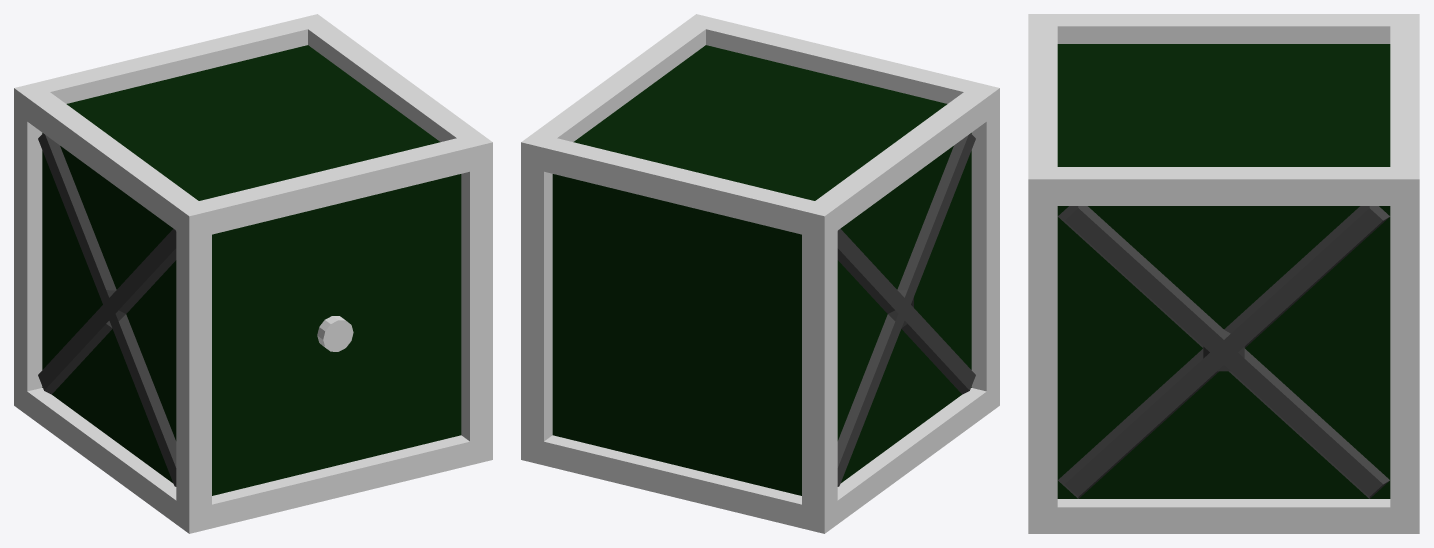
The model's file is DartShooter.fbx.
3 views of the same model, side by side, from view 1: azimuth 30°, elevation 25°; view 2: azimuth 150°, elevation 25°; view 3: azimuth 270°, elevation 25° (orthographic). The views are drawn at different scales.
Visible parts, largest first — view 1: DartShooter; view 2: DartShooter; view 3: DartShooter.
Part boxes in pixels (<box>): DartShooter: <box>14,14,492,533</box>; DartShooter: <box>521,14,999,533</box>; DartShooter: <box>1028,14,1419,533</box>.
Bounding box in the file's own units: 100 × 100 × 100.
